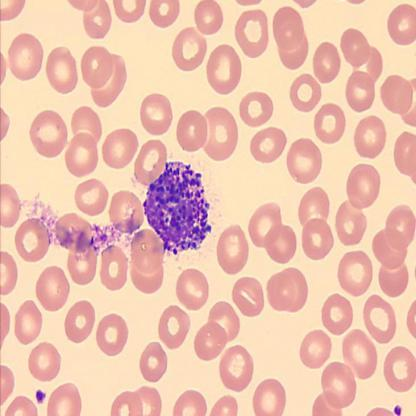Basophil: (141, 156, 213, 259)
